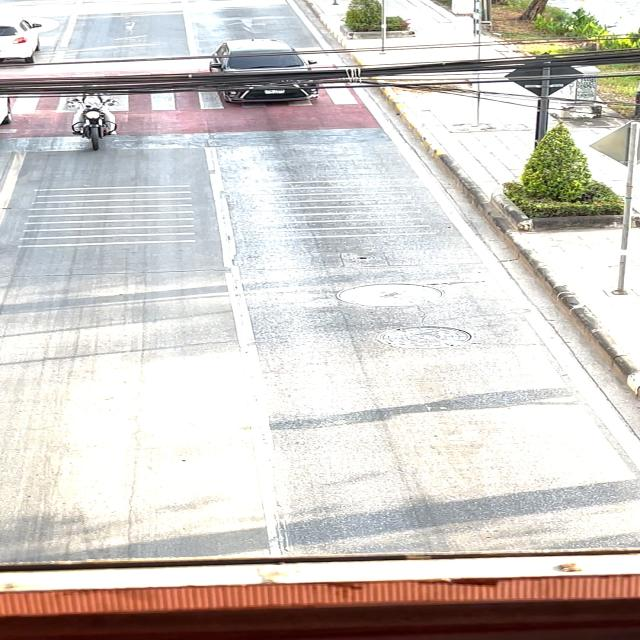car: (184, 15, 329, 116)
